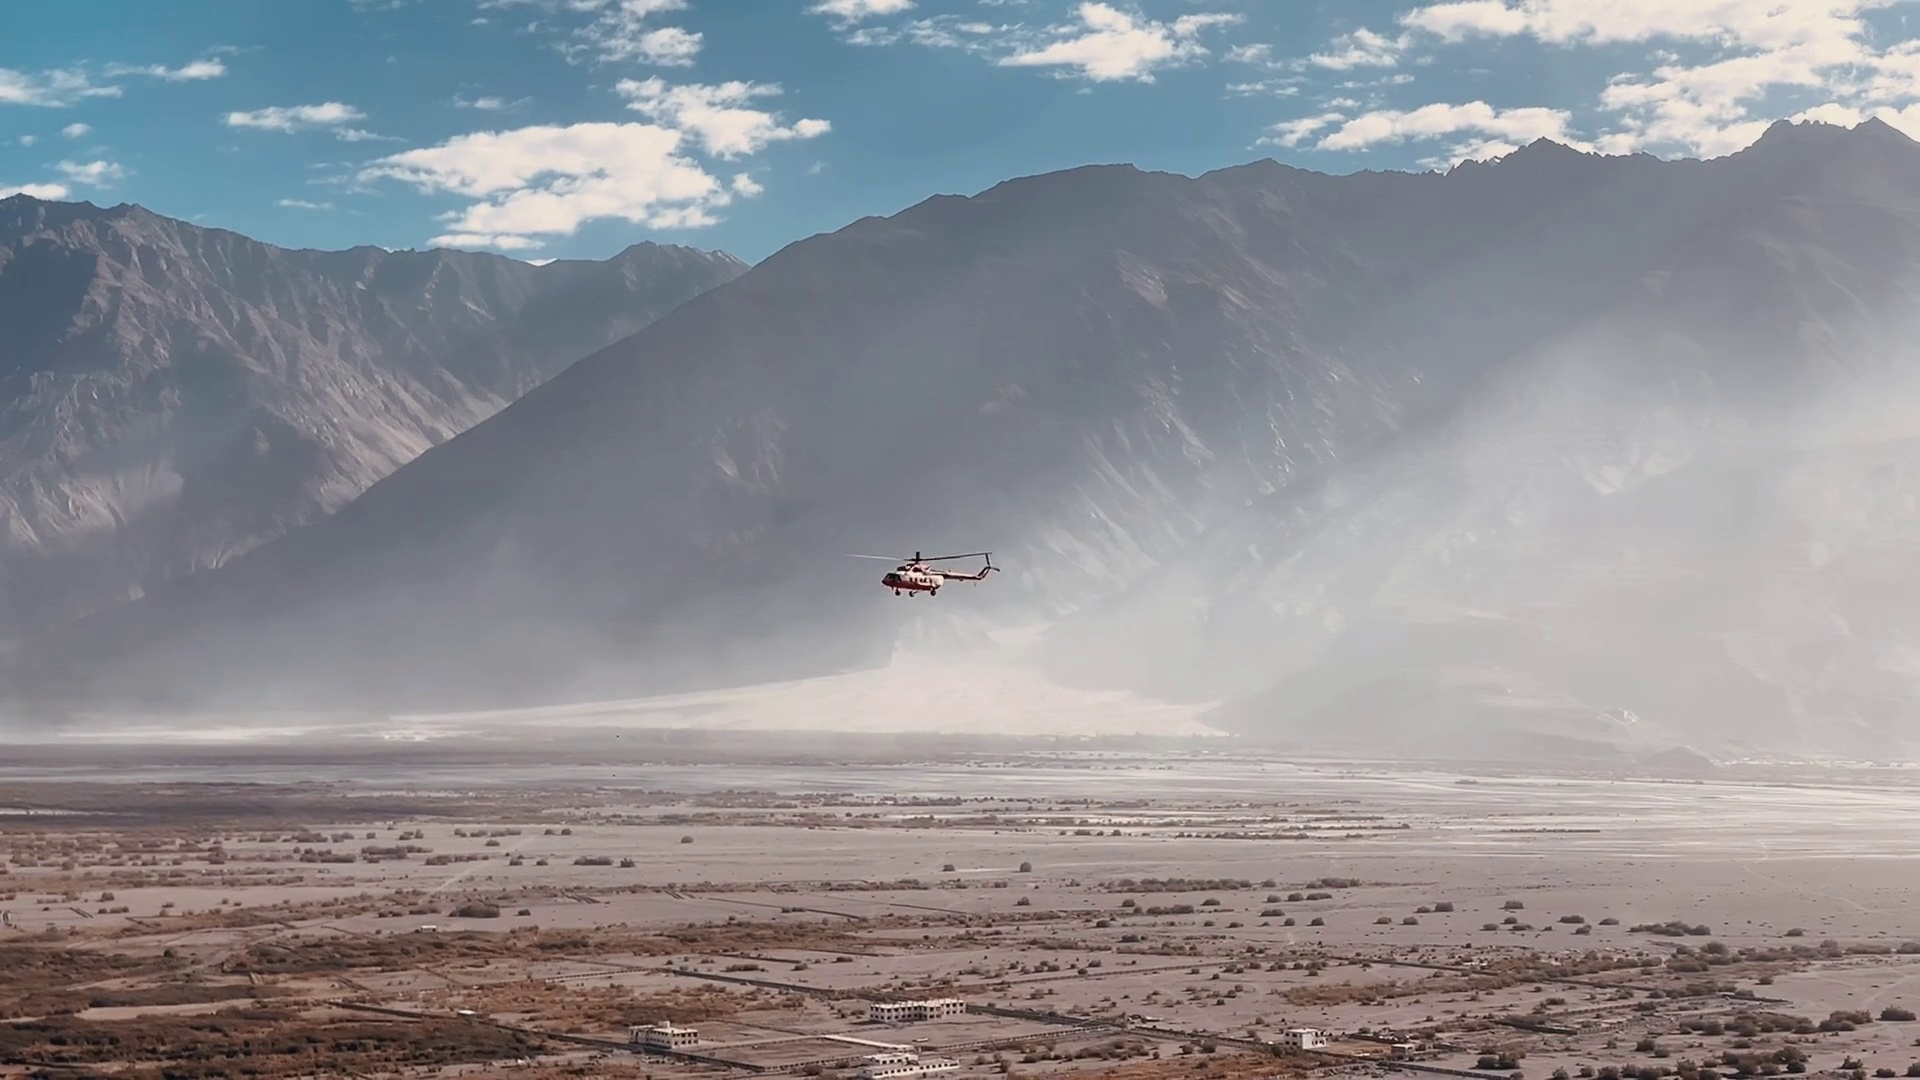heli: (848, 545, 1000, 597)
